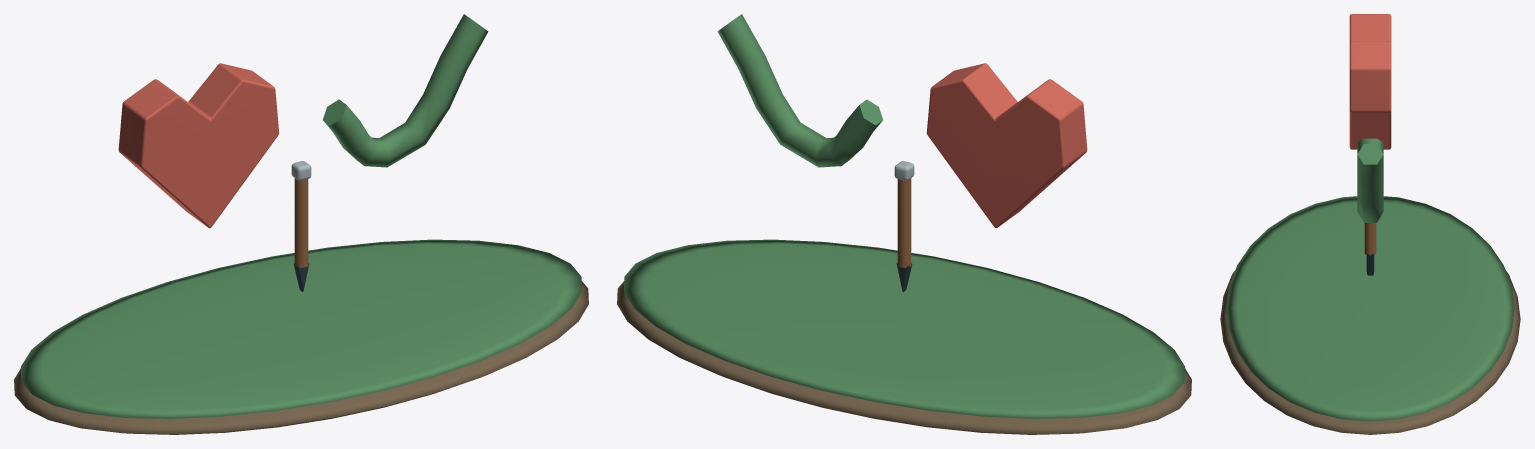
The model's file is complete-second-lovely-hobby.glb.
The picture shows the model from 3 angles, left to right: view 1: azimuth 30°, elevation 25°; view 2: azimuth 150°, elevation 25°; view 3: azimuth 270°, elevation 25°; orthographic projection. The views are drawn at different scales.
Visible parts, largest first — view 1: complete-second-lovely-hobby_surface_01, complete-second-lovely-hobby_surface_02, complete-second-lovely-hobby_surface_00, complete-second-lovely-hobby_surface_03; view 2: complete-second-lovely-hobby_surface_01, complete-second-lovely-hobby_surface_02, complete-second-lovely-hobby_surface_00, complete-second-lovely-hobby_surface_03; view 3: complete-second-lovely-hobby_surface_01, complete-second-lovely-hobby_surface_02, complete-second-lovely-hobby_surface_00, complete-second-lovely-hobby_surface_03.
Part boxes in pixels (<box>): complete-second-lovely-hobby_surface_01: <box>21,14,581,418</box>; complete-second-lovely-hobby_surface_02: <box>118,63,279,228</box>; complete-second-lovely-hobby_surface_00: <box>14,281,588,434</box>; complete-second-lovely-hobby_surface_03: <box>294,178,308,267</box>; complete-second-lovely-hobby_surface_01: <box>624,14,1184,418</box>; complete-second-lovely-hobby_surface_02: <box>926,63,1087,228</box>; complete-second-lovely-hobby_surface_00: <box>617,281,1191,434</box>; complete-second-lovely-hobby_surface_03: <box>897,178,911,267</box>; complete-second-lovely-hobby_surface_01: <box>1226,138,1514,421</box>; complete-second-lovely-hobby_surface_02: <box>1349,14,1391,149</box>; complete-second-lovely-hobby_surface_00: <box>1220,270,1520,434</box>; complete-second-lovely-hobby_surface_03: <box>1364,223,1376,255</box>.
Size of the model in its own units: 4.56 by 2.41 by 2.5.
